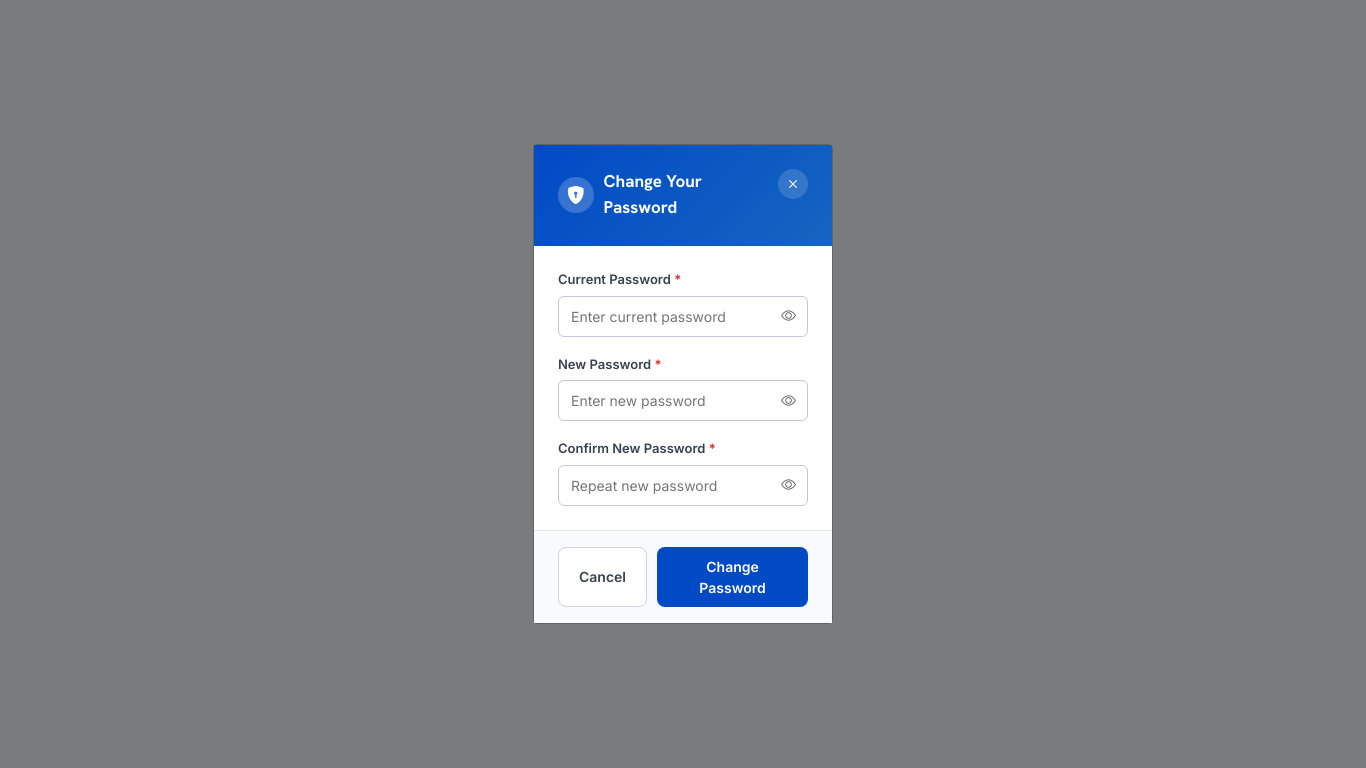
Scenario: ChangePasswordModal — self service › empty submit shows all three required errors and sends nothing
This screenshot has width=1366, height=768.
Click the button "Change Password" at (732, 577), box [657,547,808,607]
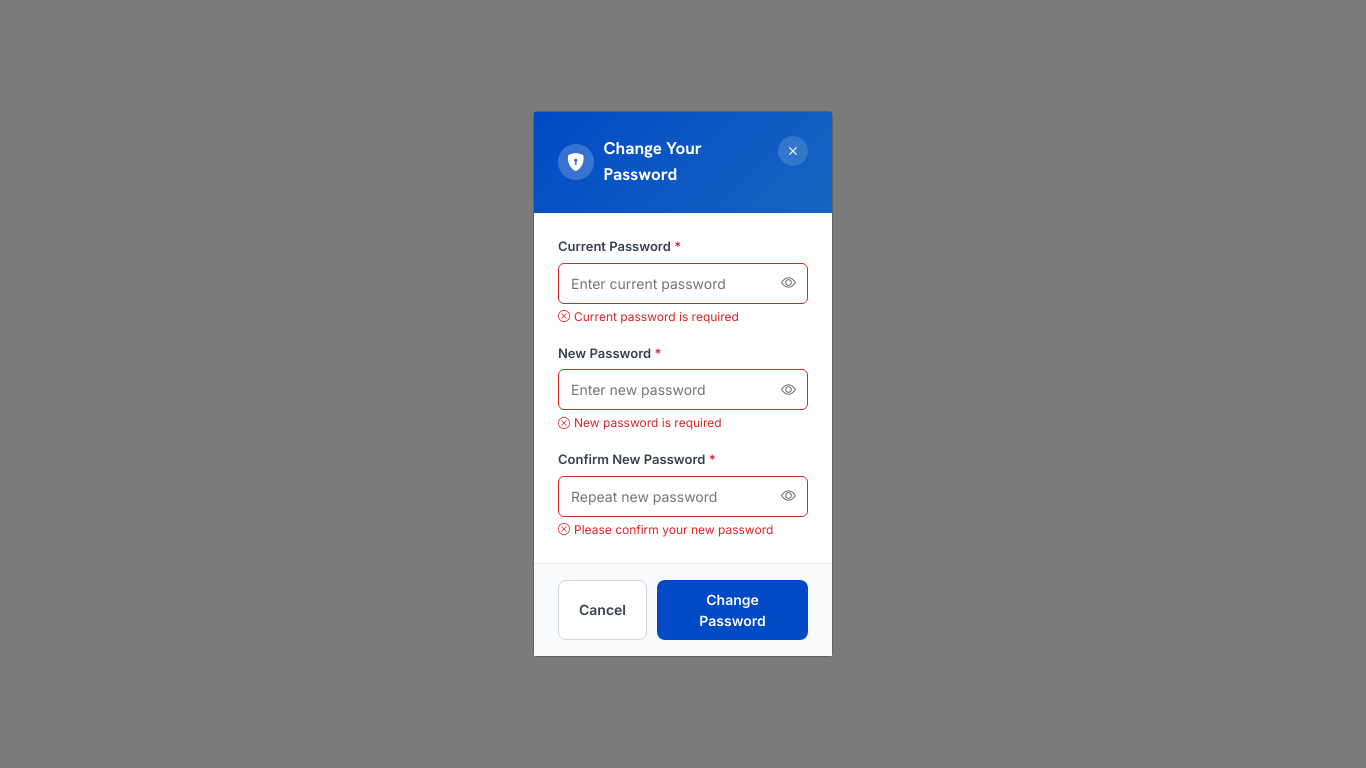
Now the text "Current password is required" is shown, box [558,309,739,324]
Now the text "New password is required" is shown, box [558,415,722,430]
Now the text "Please confirm your new password" is shown, box [558,521,808,539]
